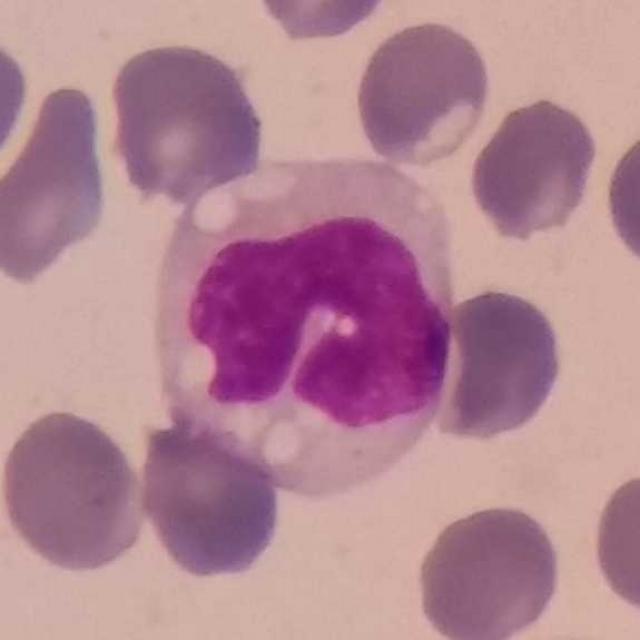mono: (153, 145, 462, 495)
